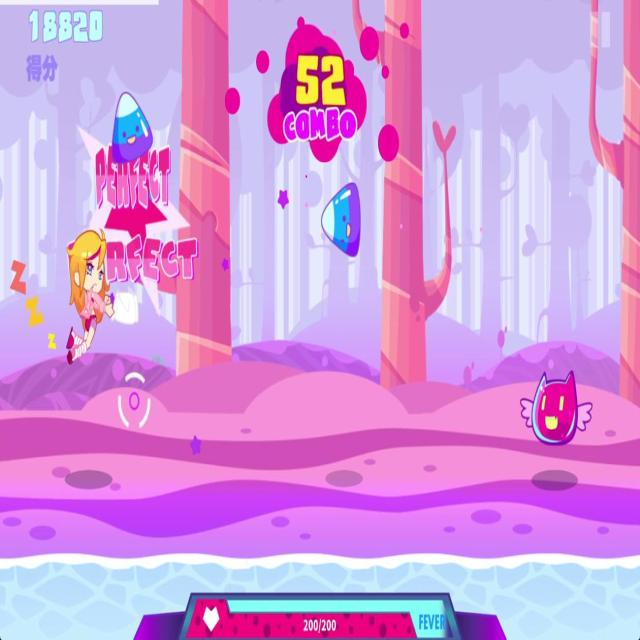jian: (319, 176, 365, 262), (110, 84, 154, 166)
mao: (517, 364, 594, 450)
